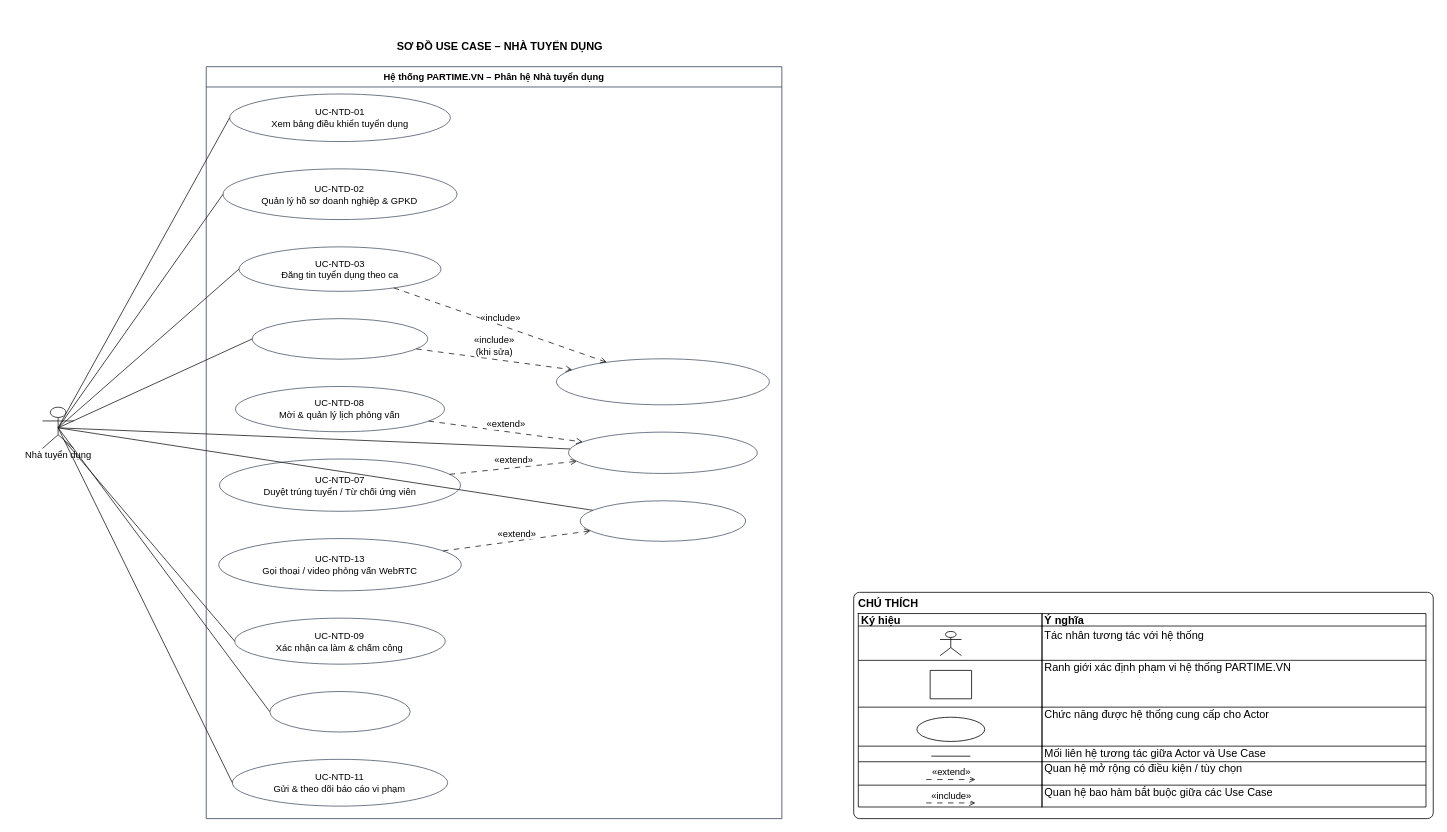
This 1447x832 diagram has some shape labels left out. The centre of each missing label's shape, as x and y in pixels:
"UC-NTD-04 Kiểm duyệt tin tự động 2 luồng" belongs at pixel 662 381.
"UC-NTD-05 Quản lý tin tuyển dụng" belongs at pixel 339 338.
"UC-NTD-06 Quản trị ứng viên (ATS)" belongs at pixel 662 452.
"UC-NTD-10 Đánh giá sinh viên" belongs at pixel 339 711.
"UC-NTD-12 Nhắn tin với ứng viên" belongs at pixel 662 520.
